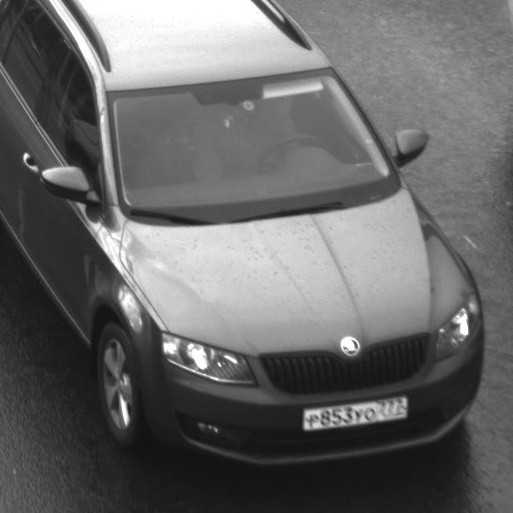plate: (290, 384, 417, 438)
